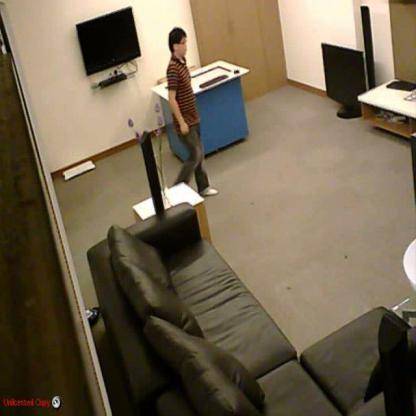Person: (168, 27, 220, 198)
